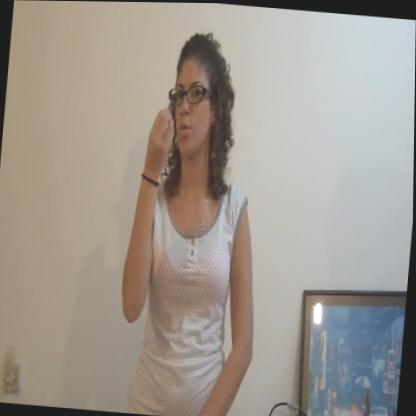Food: (110, 35, 278, 416)
